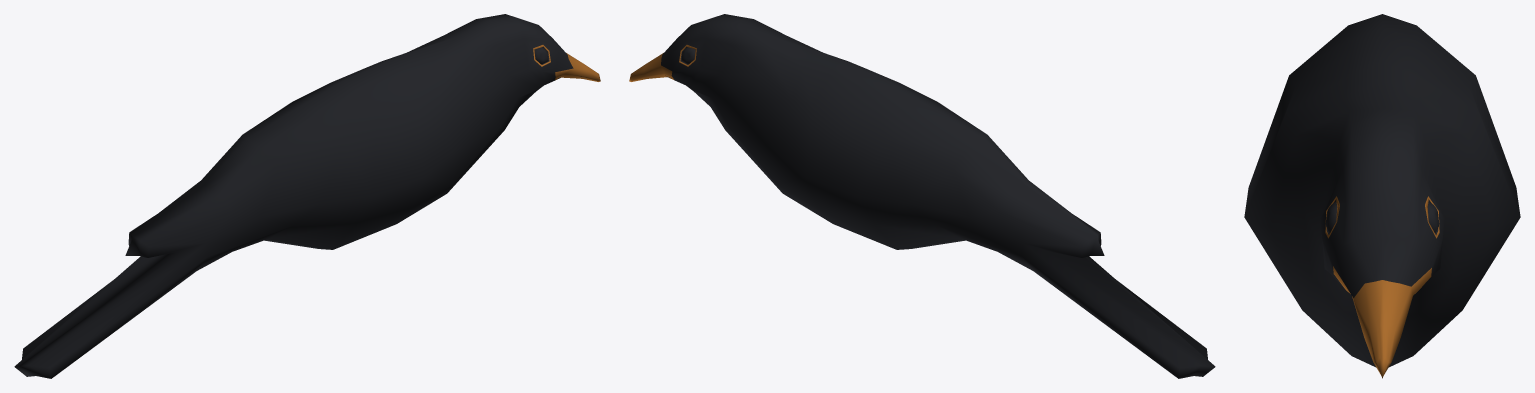
The model's file is BIRB.fbx.
3 renders of one model, left to right at view 1: azimuth 30°, elevation 25°; view 2: azimuth 150°, elevation 25°; view 3: azimuth 270°, elevation 25°, orthographic. The views are drawn at different scales.
Visible parts, largest first — view 1: Birb.001; view 2: Birb.001; view 3: Birb.001.
Boxes of the visible parts, x1,y1,x2,y2 form: Birb.001: (14, 14, 600, 378); Birb.001: (629, 14, 1215, 378); Birb.001: (1244, 14, 1520, 378).
Bounding box in the file's own units: 4.19 × 1.66 × 0.9432.
